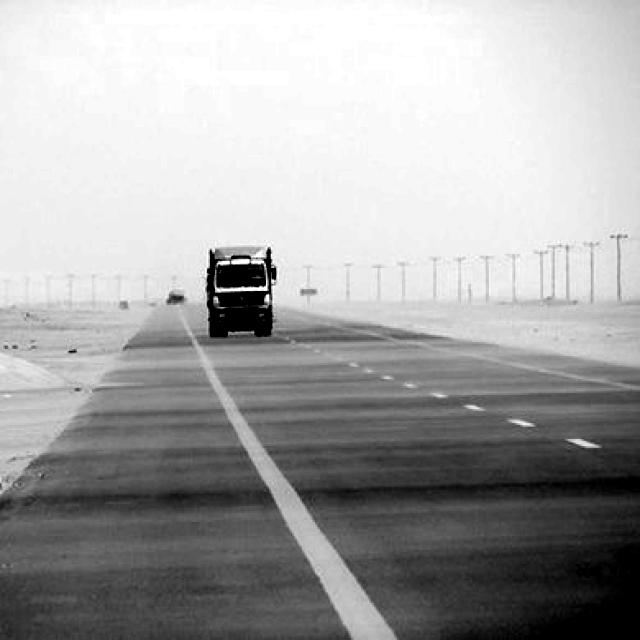cleat: (85, 247, 640, 640)
